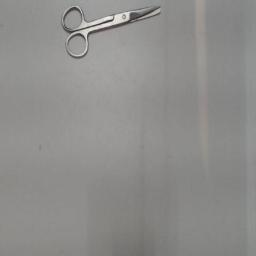Dressing Scissors: (57, 2, 167, 64)
